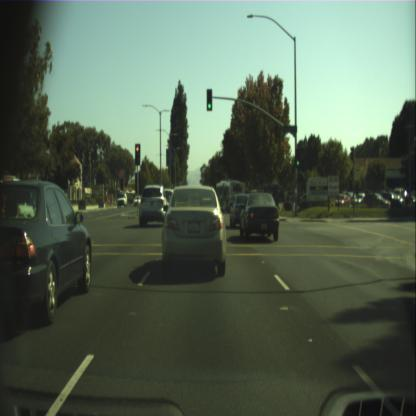Green: (206, 88, 212, 110), (295, 148, 300, 167)
Red: (298, 172, 302, 180)
RedLeft: (135, 143, 140, 165)
